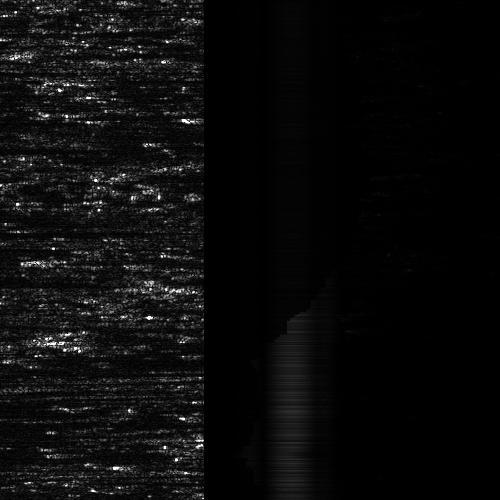object: (0, 254, 117, 265)
shadow: (44, 254, 205, 265), (0, 365, 96, 374), (0, 144, 80, 153), (0, 397, 76, 402), (0, 68, 69, 73), (0, 321, 55, 326)
